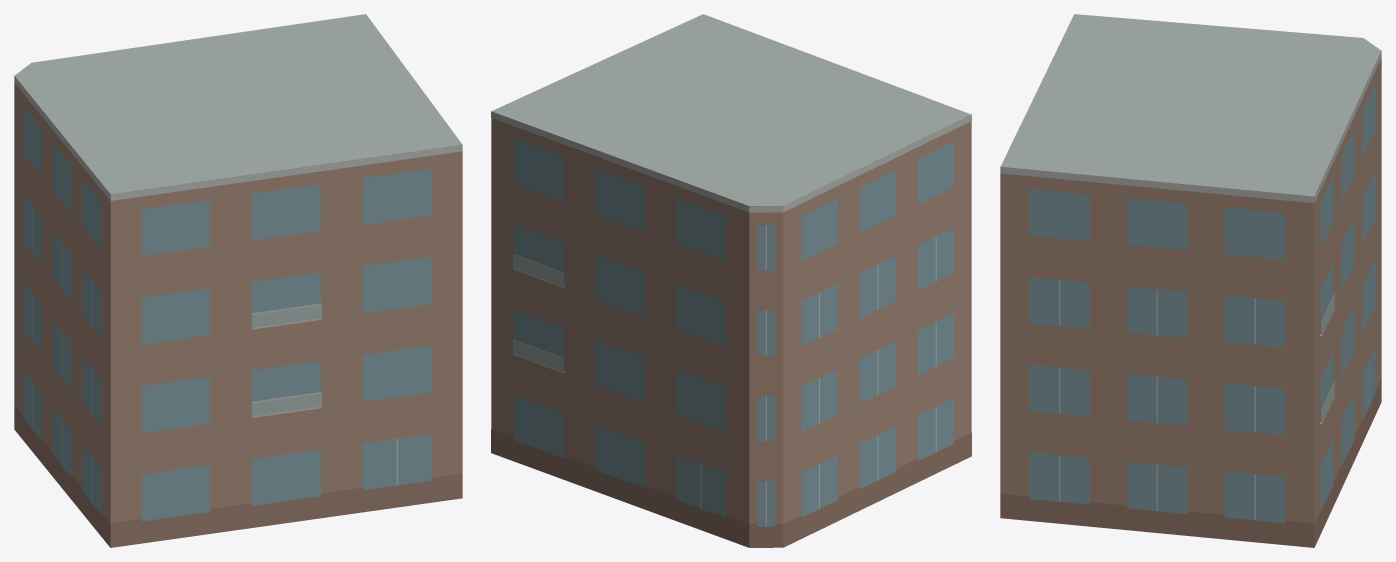
The model's file is survey-upis-32663579.glb.
3 views of the same model, side by side, from view 1: azimuth 30°, elevation 25°; view 2: azimuth 150°, elevation 25°; view 3: azimuth 270°, elevation 25° (orthographic). The views are drawn at different scales.
Visible parts, largest first — view 1: survey-upis-32663579.tmp; view 2: survey-upis-32663579.tmp; view 3: survey-upis-32663579.tmp.
Part boxes in pixels (box(x1,y1,x2,y2)): survey-upis-32663579.tmp: box(14, 14, 462, 547); survey-upis-32663579.tmp: box(491, 14, 971, 547); survey-upis-32663579.tmp: box(1000, 14, 1381, 547).
Size of the model in its own units: 14.27 by 12.8 by 12.59.
